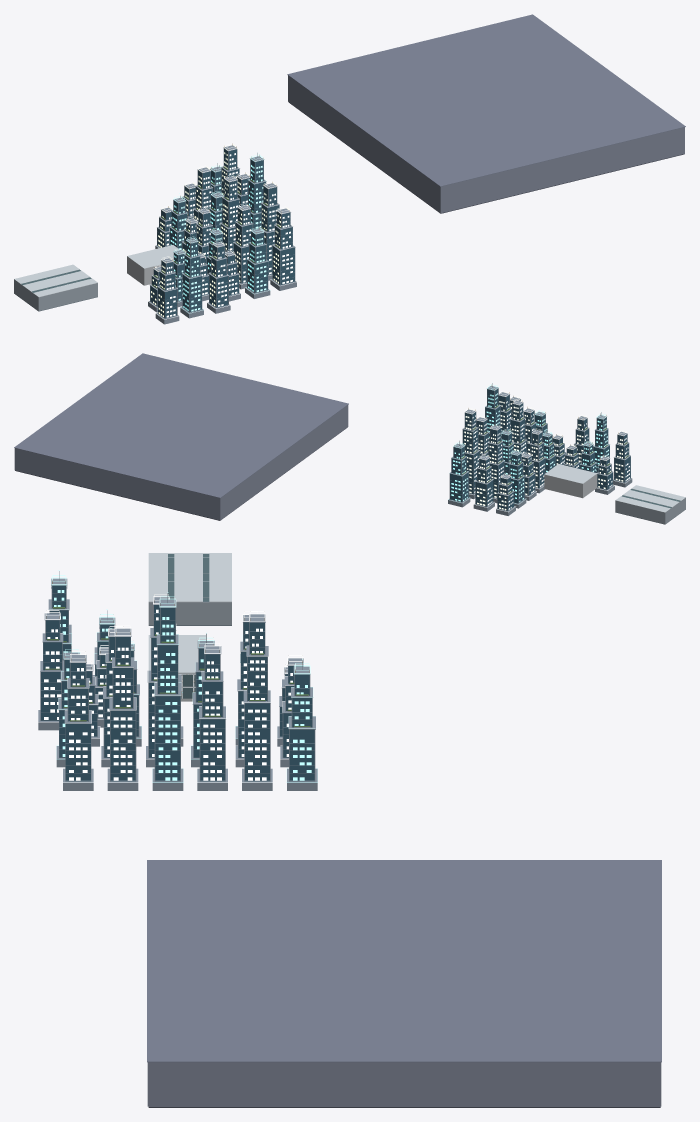
Rendered from TheCommons_PC.fbx.
3 views of the same model, one above another, from view 1: azimuth 30°, elevation 25°; view 2: azimuth 150°, elevation 25°; view 3: azimuth 270°, elevation 25° (orthographic). The views are drawn at different scales.
Visible parts, largest first — view 1: KART_Roof__MAT_KartSteel, ENV_City__MAT_CityGlazing, ENV_City__MAT_CityStone, KART_ShellSouth__MAT_KartConcrete, KART_ShellWest__MAT_KartConcrete, ENV_City__MAT_CityWarm, ENV_City__MAT_CityCool, FPV_Shell__MAT_Steel, FPV_Shell__MAT_FPVWall, ARCH_Shell__MAT_Steel; view 2: KART_Roof__MAT_KartSteel, ENV_City__MAT_CityGlazing, ENV_City__MAT_CityStone, KART_ShellNorth__MAT_KartConcrete, KART_ShellWest__MAT_KartConcrete, ENV_City__MAT_CityWarm, ENV_City__MAT_CityCool, FPV_Shell__MAT_Steel, FPV_Shell__MAT_FPVWall, ARCH_Shell__MAT_Plaster, ARCH_Shell__MAT_Steel, KART_Hall__MAT_KartFloor; view 3: KART_Roof__MAT_KartSteel, ENV_City__MAT_CityGlazing, KART_ShellEast__MAT_KartConcrete, ENV_City__MAT_CityStone, ENV_City__MAT_CityWarm, FPV_Shell__MAT_Steel, ENV_City__MAT_CityCool, FPV_Shell__MAT_FPVWall, ARCH_Shell__MAT_Steel.
Boxes of the visible parts, bbox=[...] form: KART_Roof__MAT_KartSteel: bbox=[287, 14, 685, 186]; ENV_City__MAT_CityGlazing: bbox=[150, 148, 294, 318]; ENV_City__MAT_CityStone: bbox=[148, 145, 296, 324]; KART_ShellSouth__MAT_KartConcrete: bbox=[440, 127, 684, 213]; KART_ShellWest__MAT_KartConcrete: bbox=[288, 75, 440, 212]; ENV_City__MAT_CityWarm: bbox=[148, 143, 296, 319]; ENV_City__MAT_CityCool: bbox=[169, 152, 270, 313]; FPV_Shell__MAT_Steel: bbox=[14, 264, 97, 297]; FPV_Shell__MAT_FPVWall: bbox=[14, 270, 97, 310]; ARCH_Shell__MAT_Steel: bbox=[127, 245, 179, 268]; KART_Roof__MAT_KartSteel: bbox=[14, 353, 348, 498]; ENV_City__MAT_CityGlazing: bbox=[450, 389, 630, 510]; ENV_City__MAT_CityStone: bbox=[448, 383, 632, 515]; KART_ShellNorth__MAT_KartConcrete: bbox=[15, 448, 219, 520]; KART_ShellWest__MAT_KartConcrete: bbox=[220, 405, 348, 520]; ENV_City__MAT_CityWarm: bbox=[464, 390, 632, 512]; ENV_City__MAT_CityCool: bbox=[448, 382, 609, 504]; FPV_Shell__MAT_Steel: bbox=[615, 485, 685, 512]; FPV_Shell__MAT_FPVWall: bbox=[615, 498, 685, 524]; ARCH_Shell__MAT_Plaster: bbox=[544, 474, 597, 497]; ARCH_Shell__MAT_Steel: bbox=[544, 464, 596, 483]; KART_Hall__MAT_KartFloor: bbox=[15, 427, 347, 520]; KART_Roof__MAT_KartSteel: bbox=[147, 860, 661, 1062]; ENV_City__MAT_CityGlazing: bbox=[41, 585, 314, 781]; KART_ShellEast__MAT_KartConcrete: bbox=[148, 1062, 660, 1106]; ENV_City__MAT_CityStone: bbox=[38, 571, 317, 790]; ENV_City__MAT_CityWarm: bbox=[38, 586, 304, 782]; FPV_Shell__MAT_Steel: bbox=[148, 553, 231, 602]; ENV_City__MAT_CityCool: bbox=[49, 570, 317, 782]; FPV_Shell__MAT_FPVWall: bbox=[148, 602, 231, 625]; ARCH_Shell__MAT_Steel: bbox=[148, 635, 205, 698].
Size of the model in its own units: 392 by 66.11 by 195.
